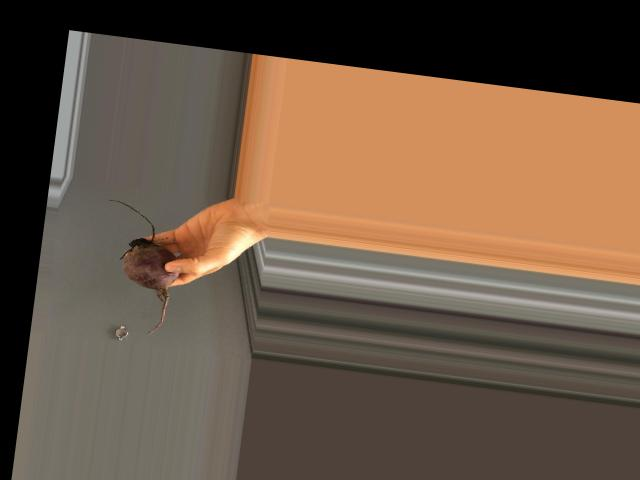beet: (91, 198, 187, 337)
